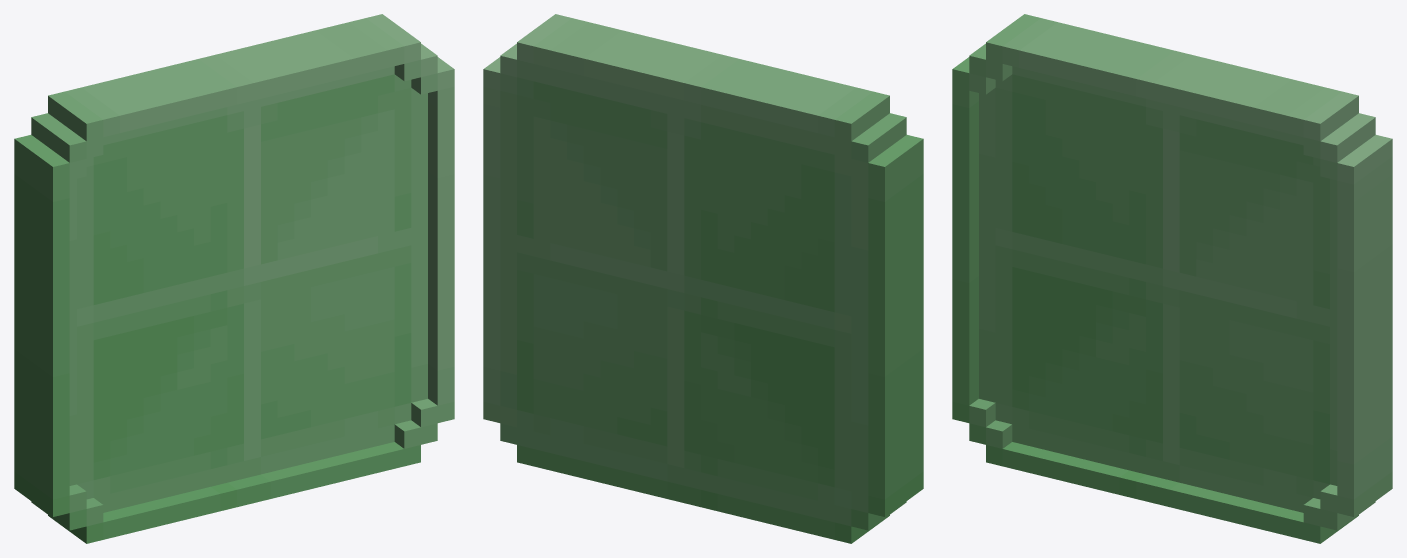
The model's file is window-green.glb.
3 renders of one model, left to right at view 1: azimuth 30°, elevation 25°; view 2: azimuth 150°, elevation 25°; view 3: azimuth 330°, elevation 25°, orthographic.
Visible parts, largest first — view 1: prop; view 2: prop; view 3: prop.
Boxes of the visible parts, bbox=[...] form: prop: bbox=[14, 14, 454, 543]; prop: bbox=[483, 14, 923, 543]; prop: bbox=[952, 14, 1392, 543].
Size of the model in its own units: 16 by 16 by 2.67.
